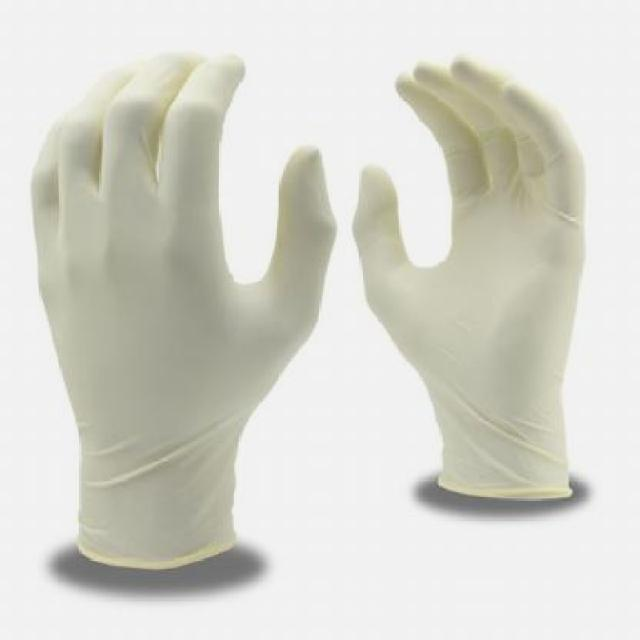glove: (35, 34, 338, 568), (349, 49, 596, 540)
